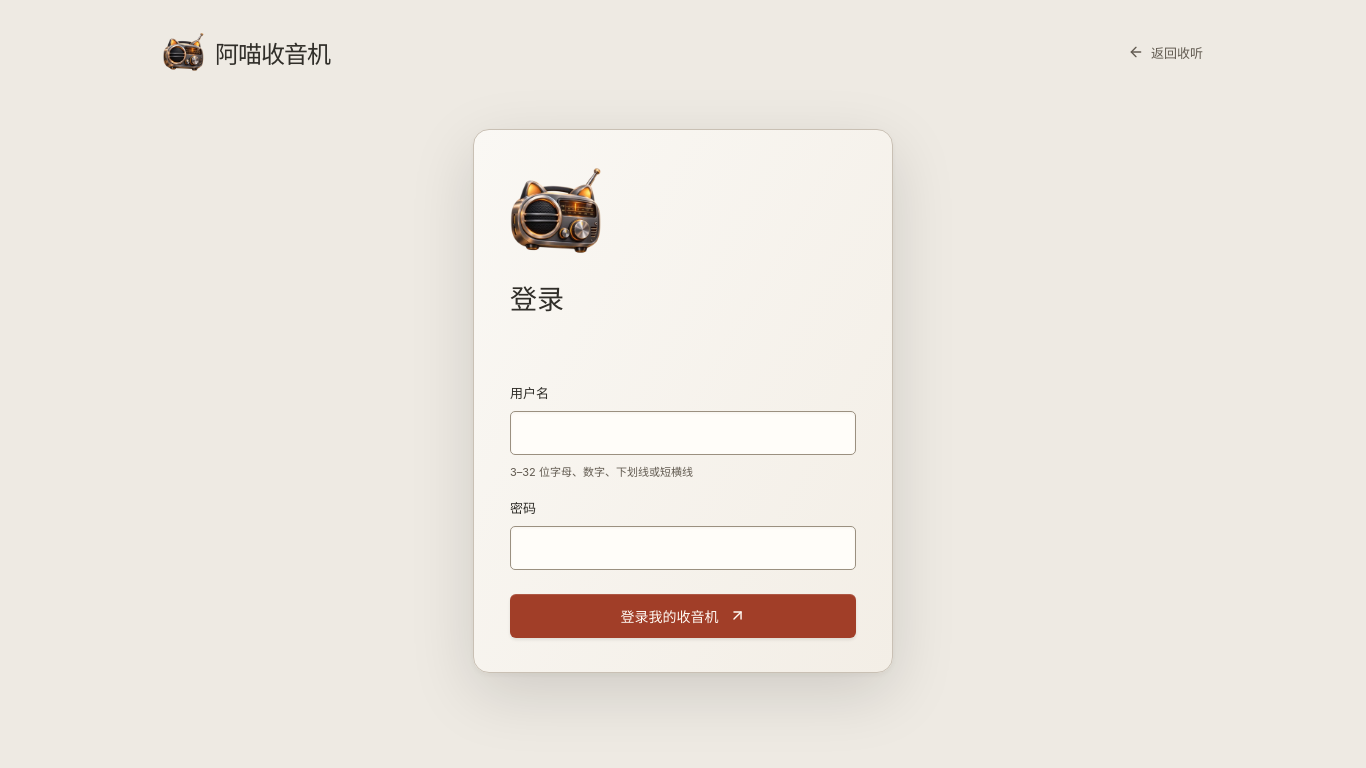
Test case: standalone login page › keeps failed login on the page with an actionable error
The image size is (1366, 768).
Type "listener" into the field labelled "用户名".
click(683, 433); type("listener")  # box [510,411,856,455]
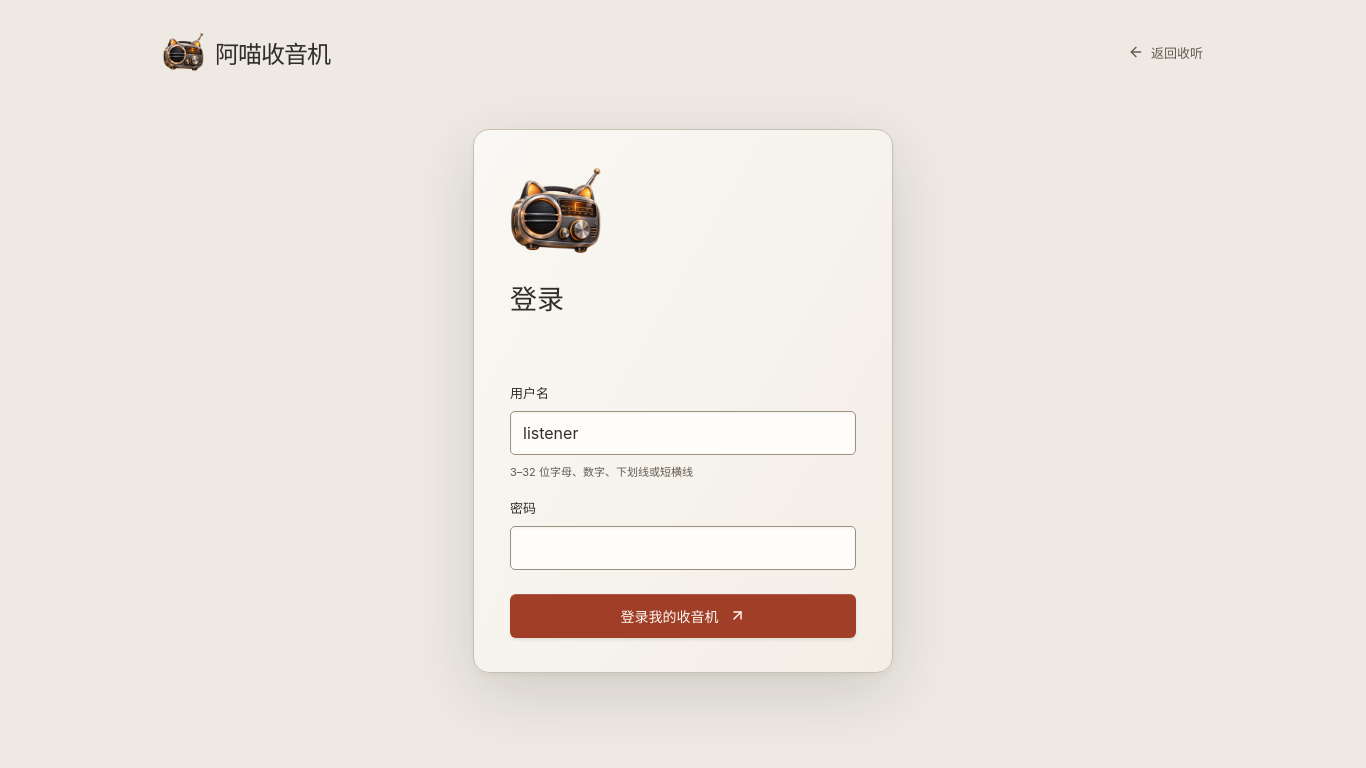
Type "wrong-test-password" into the password field labelled "密码".
click(683, 548); type("wrong-test-password")  # box [510,526,856,570]
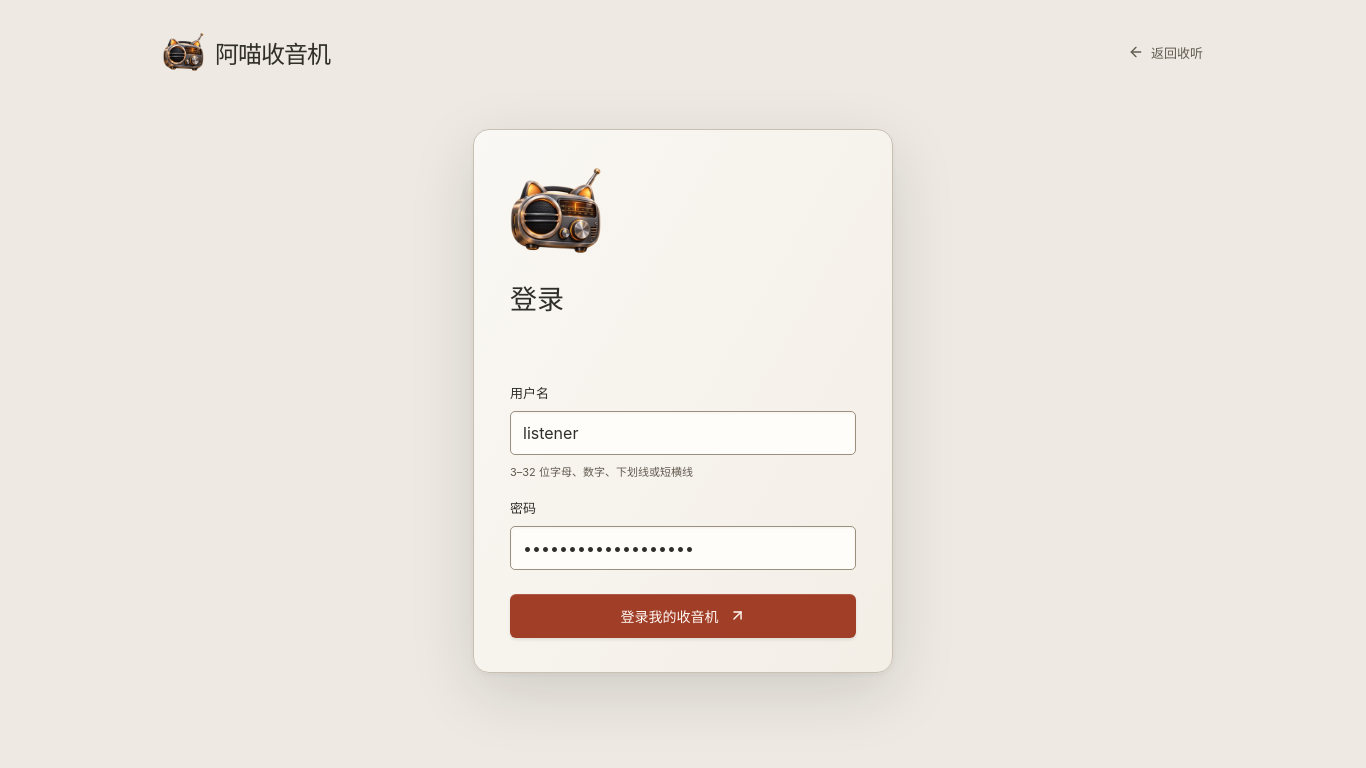
Click the button "登录我的收音机".
click(683, 616)  # box [510,594,856,638]
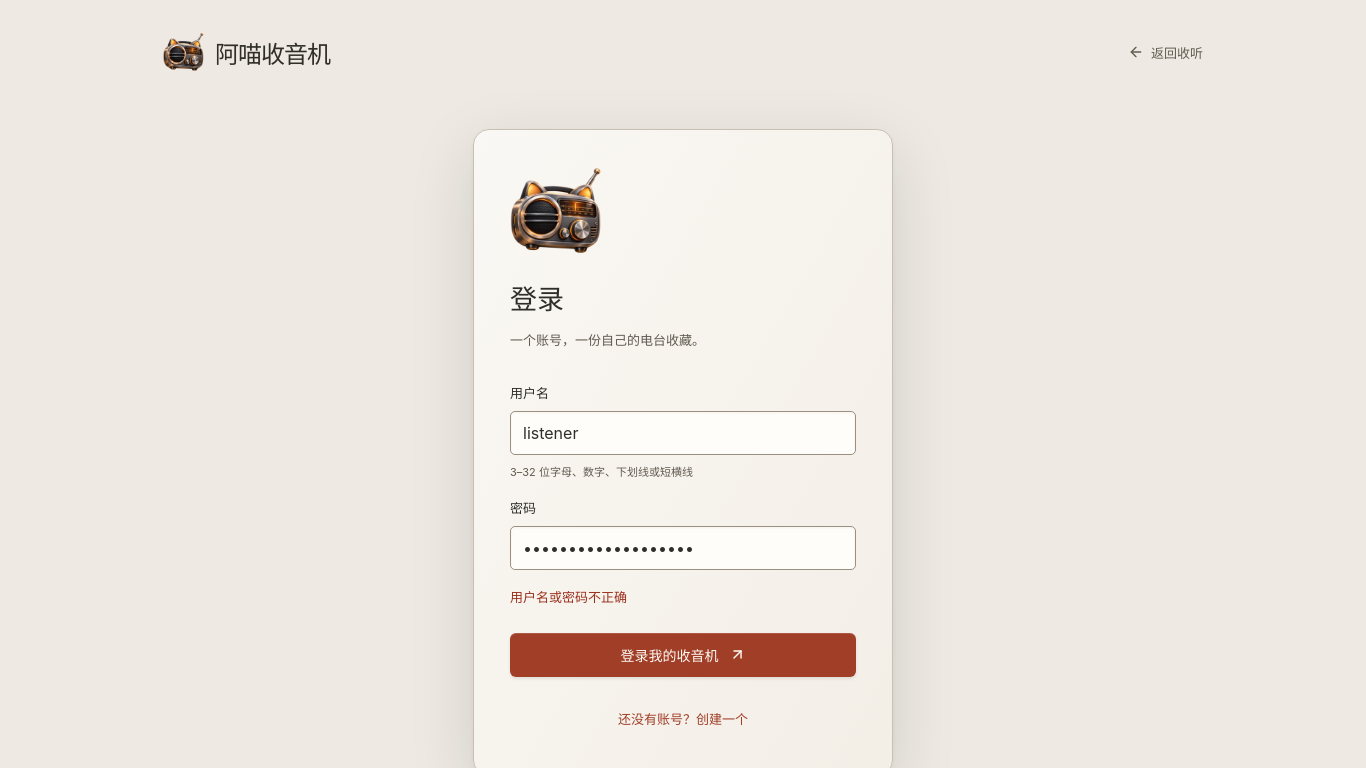
Now the message reads "用户名或密码不正确", box [510,589,627,605]
